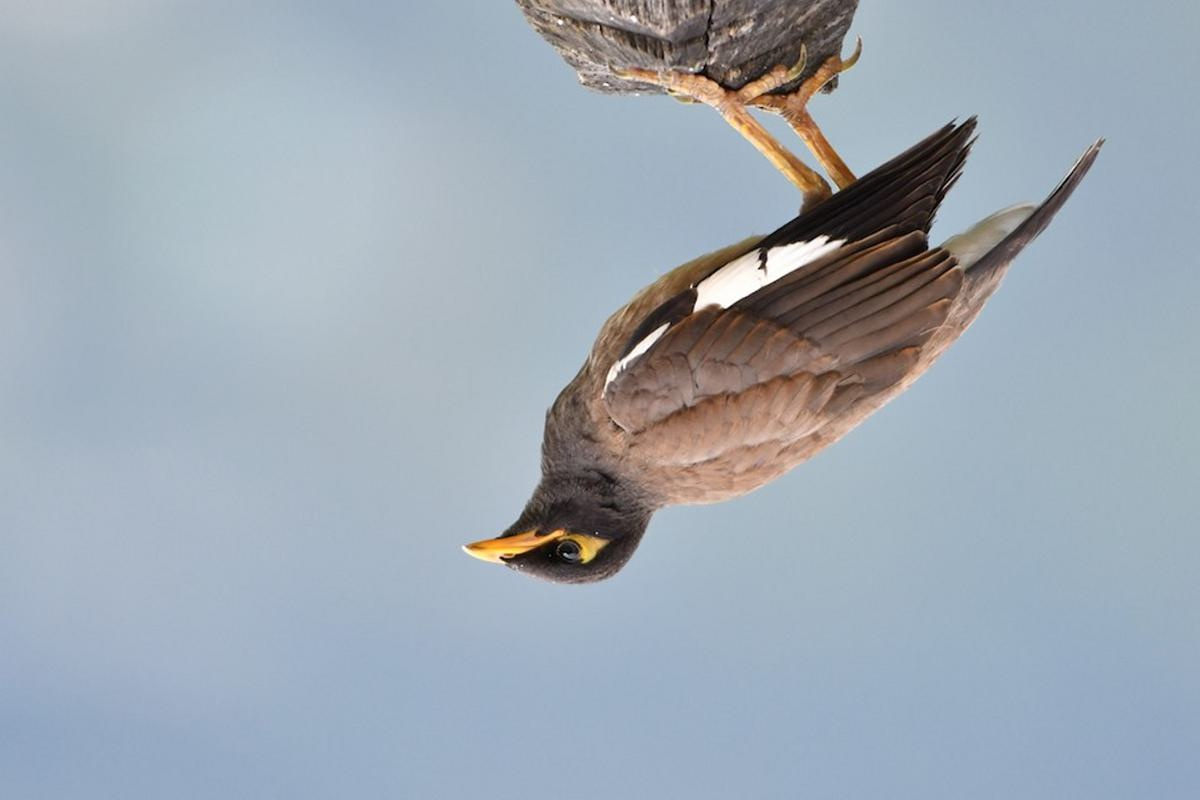myna: (474, 25, 1120, 592)
